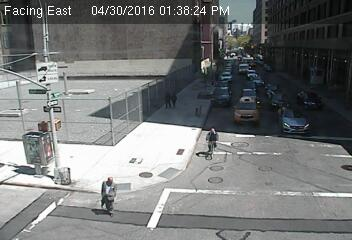neg: (186, 110, 229, 168), (284, 160, 318, 205), (213, 135, 240, 172), (297, 98, 314, 120)
pos: (95, 169, 130, 215), (158, 86, 176, 110), (168, 90, 183, 110)
